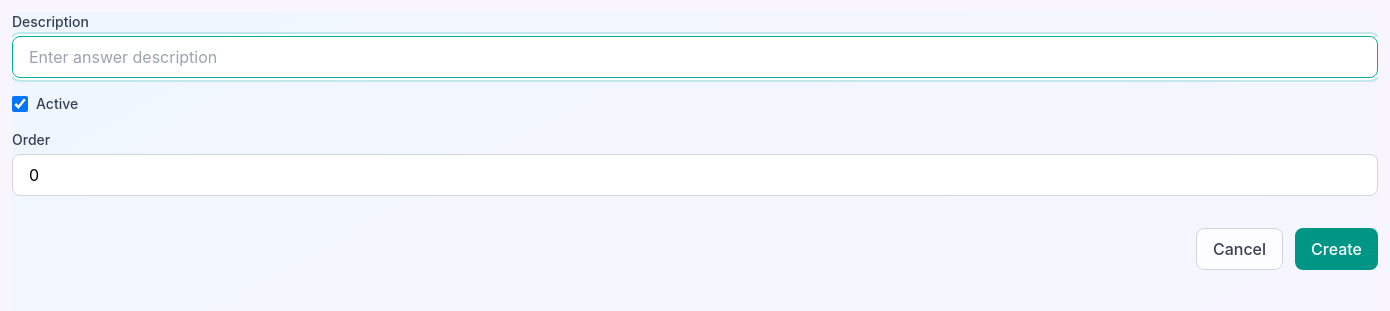
it: AnswerForm › Accessibility › should display error when order is already in use
The image size is (1390, 311).
Type "Valid description" into the field with placeholder "Enter answer description" at (695, 57), box top-left (12, 36), bottom-right (1378, 78)
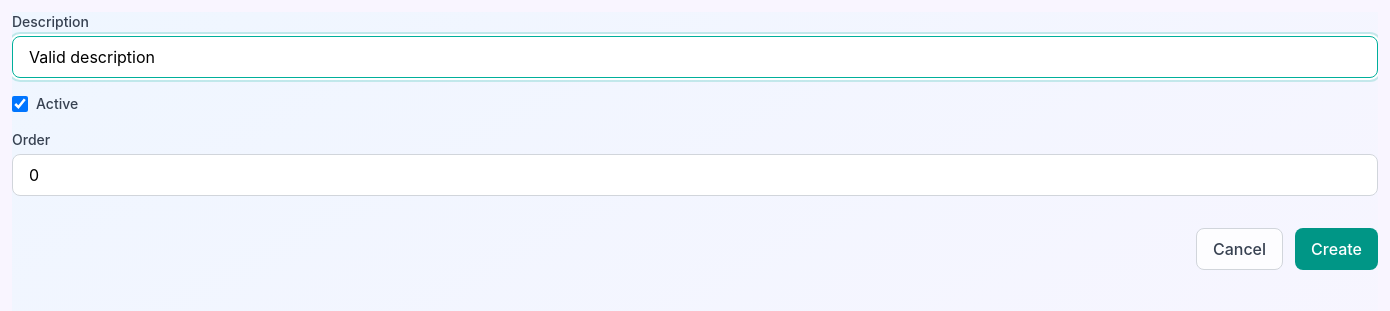
Replace the text in the number field labelled "Order" with "1" at (695, 175), box top-left (12, 154), bottom-right (1378, 196)
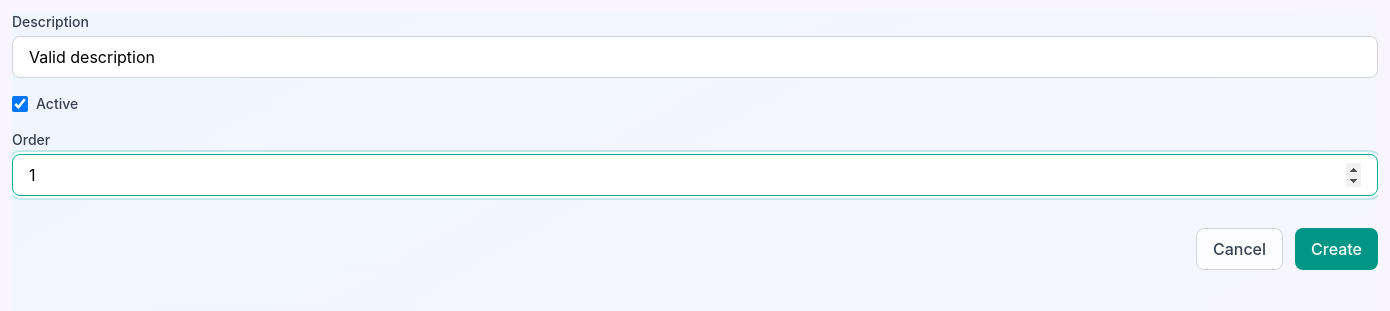
Click the button "Create" at (1336, 249), box top-left (1295, 228), bottom-right (1378, 270)
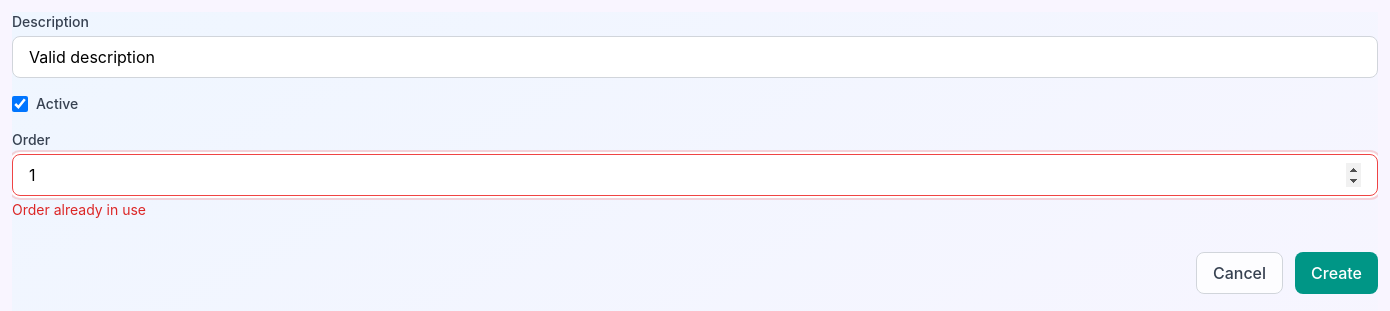
Expected: the message reads "Order already in use", top-left (12, 201), bottom-right (146, 218)
